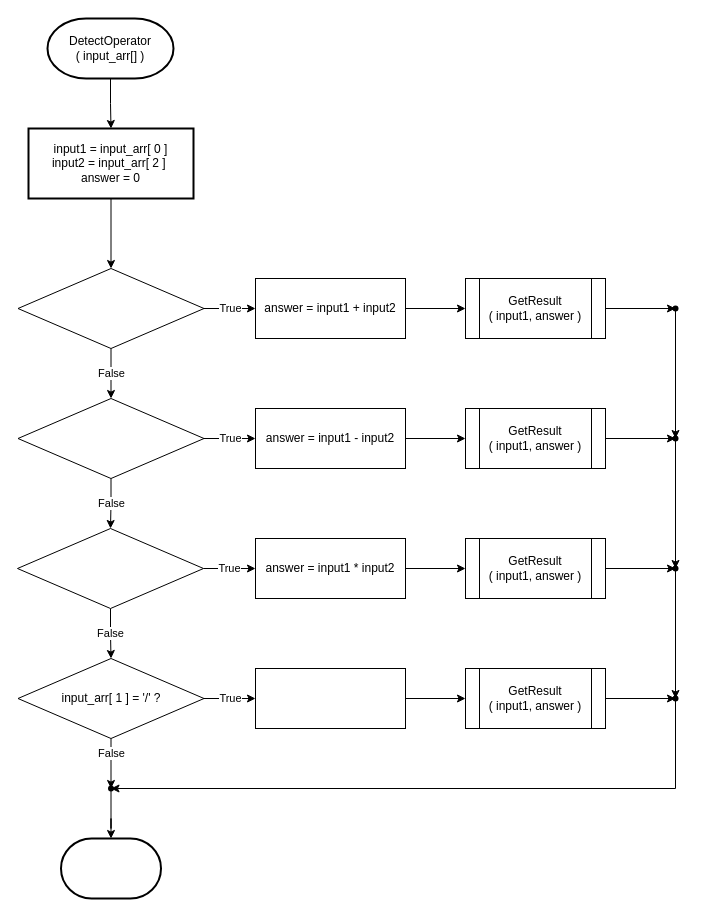
This 713x916 diagram has some shape labels left out. The shapes that lost their labels are listed below. From the top down, each one's box as (x1, y1, x2, y2) in pixels, then its label:
(17, 268, 204, 348): input_arr[ 1 ] = '+' ?
(17, 398, 204, 478): input_arr[ 1 ] = '-' ?
(16, 528, 204, 608): input_arr[ 1 ] = '*' ?
(254, 668, 406, 728): answer = input1 / input2
(60, 837, 162, 899): Stop
